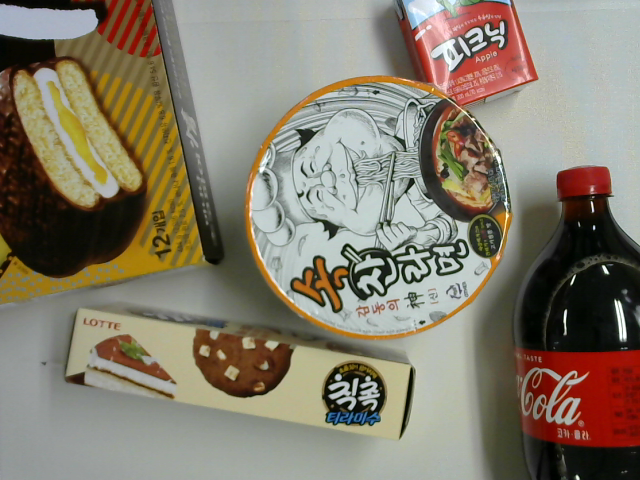Chicchok_Tiramisu: (63, 303, 418, 446)
Choco_Pie_Banana: (1, 1, 229, 309)
Coca_Cola_1.5L: (509, 167, 640, 479)
Hejangchan: (244, 75, 513, 345)
Picnic_Apple: (392, 1, 540, 113)
